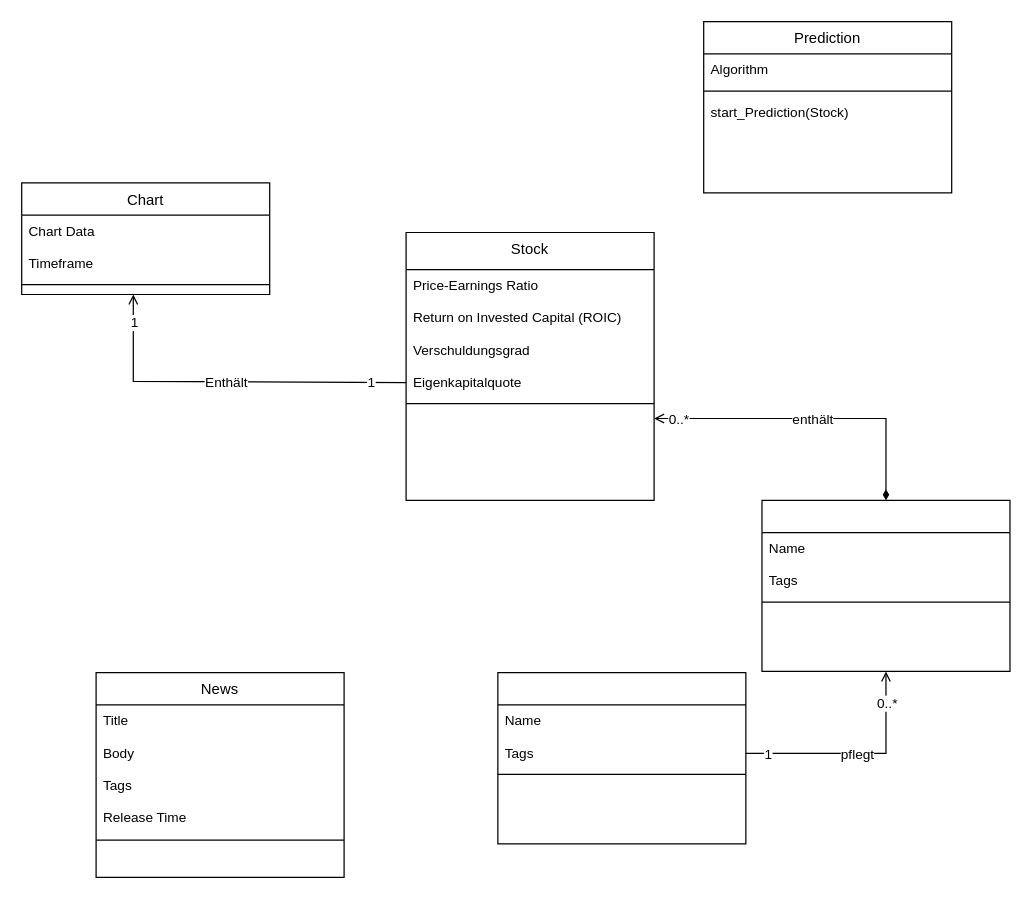
The diagram is 1032 pixels wide and 899 high, and some of its shapes have lost their labels. The box of each missing label's shape, as (x1, y1, x2, y2) in pixels:
StockList: (761, 499, 1010, 671)
User: (497, 671, 746, 844)
